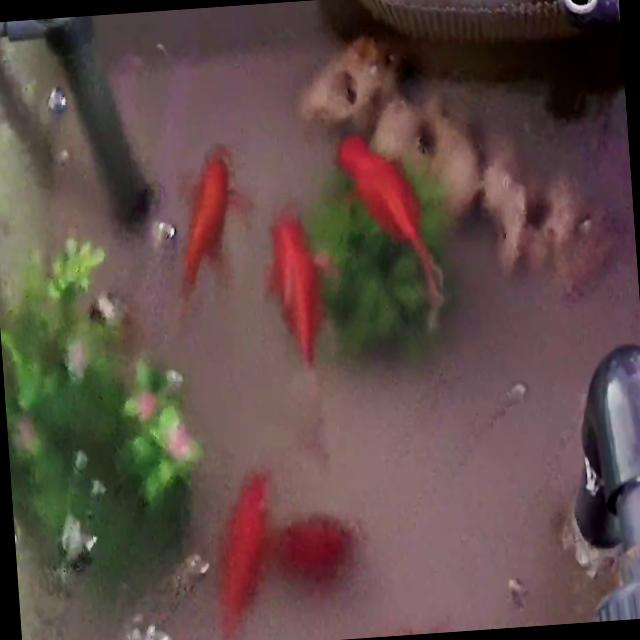fish: (336, 128, 441, 317), (170, 140, 258, 304), (207, 466, 280, 640), (268, 206, 336, 375), (275, 512, 358, 582)
